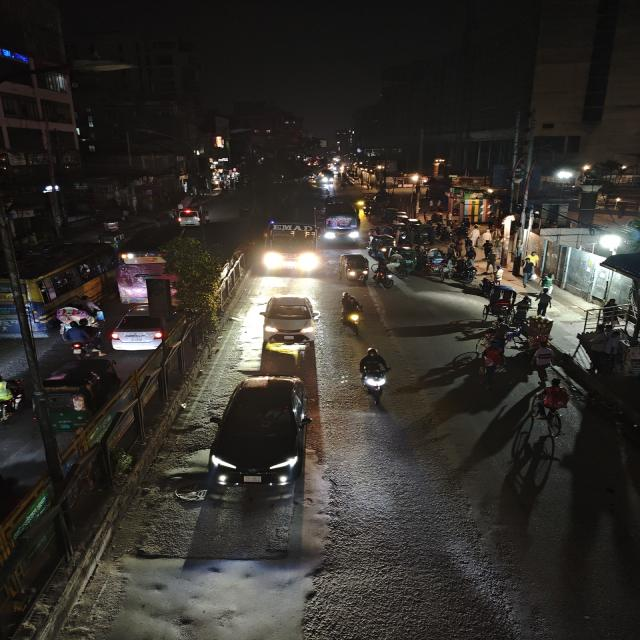bicycle: (524, 382, 577, 440)
bus: (0, 242, 111, 336), (263, 193, 319, 275), (318, 198, 363, 245)
car: (207, 370, 315, 499), (256, 293, 317, 348), (109, 309, 174, 353), (119, 228, 181, 271), (172, 203, 212, 229)
cng: (38, 358, 120, 434), (0, 364, 27, 427), (338, 251, 371, 285), (97, 230, 126, 245)
motorcycle: (353, 345, 394, 407), (338, 290, 366, 338), (64, 324, 103, 358), (498, 323, 530, 355)
pedestrian: (528, 344, 557, 381), (534, 290, 555, 318), (524, 250, 541, 282), (513, 294, 534, 319), (482, 240, 497, 272), (521, 259, 538, 286), (508, 248, 522, 276), (537, 272, 554, 294), (478, 275, 494, 295), (490, 264, 504, 284)
rickshaw: (523, 378, 579, 442), (474, 344, 509, 384), (480, 287, 517, 323), (424, 247, 449, 275)
